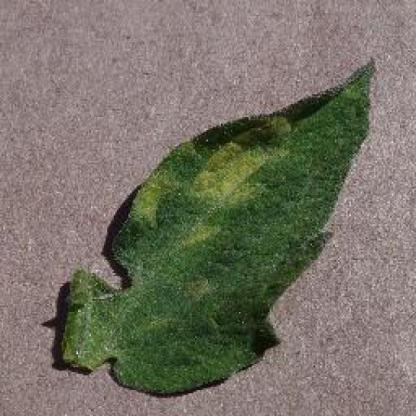Tomato_Leaf_Mold: (62, 58, 376, 394)
